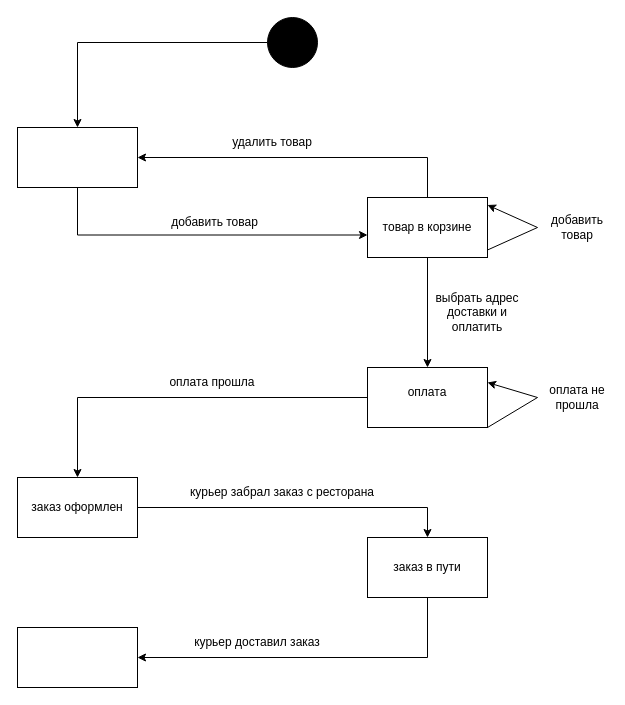
Image size: 625x705. Some labels were removed from this diagram. The shapes that lost their labels are listed below. From the top down, each one's box as (x1, y1, x2, y2) in pixels, then its label:
(16, 126, 138, 188): пустой заказ
(16, 626, 138, 688): заказ получен
